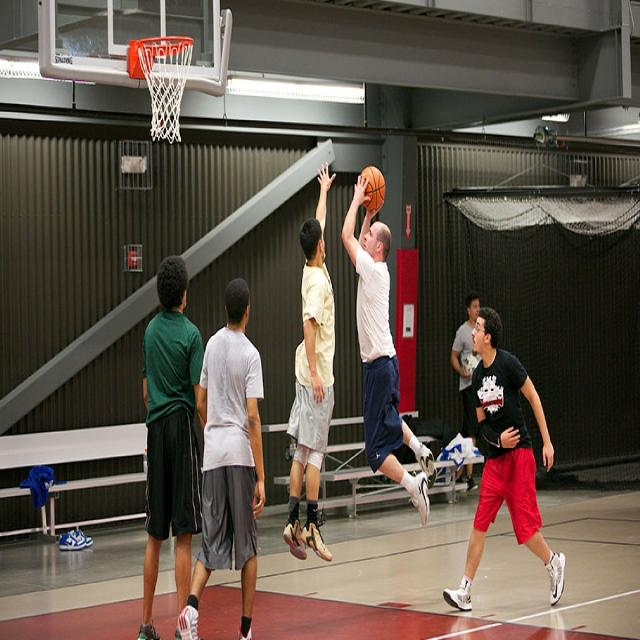body: (441, 304, 568, 614), (337, 161, 439, 529), (176, 274, 268, 639), (137, 255, 206, 640), (280, 158, 337, 563), (449, 290, 484, 495), (445, 611, 565, 640)
